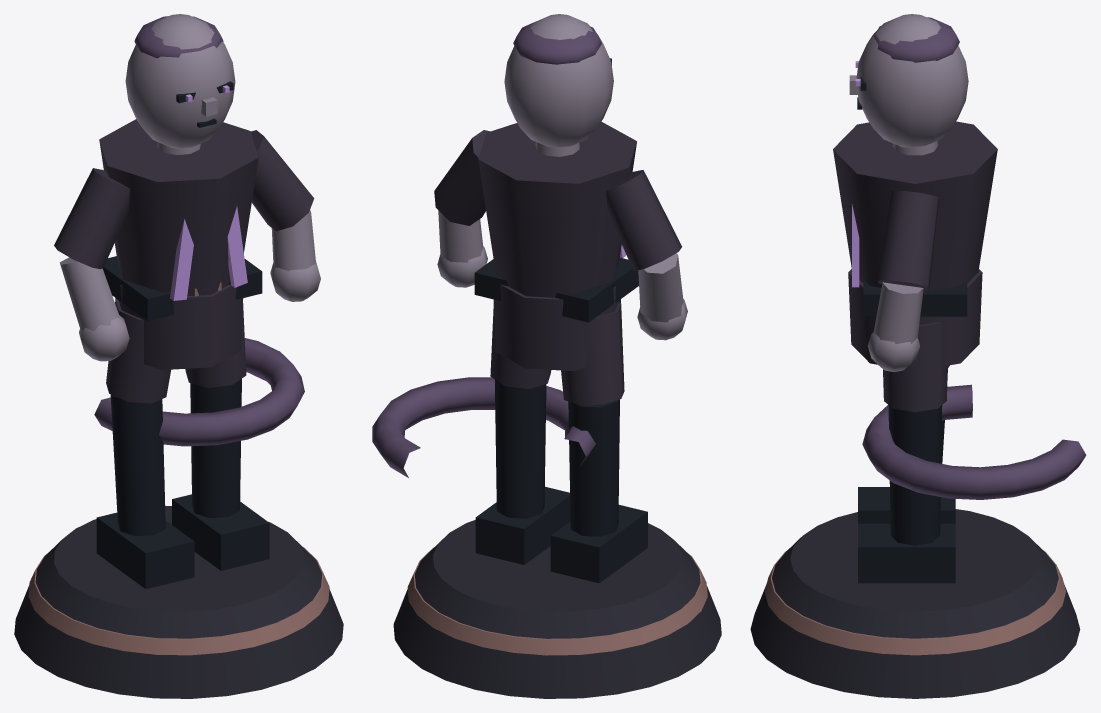
File: frieza.glb
3 renders of one model, left to right at view 1: azimuth 30°, elevation 25°; view 2: azimuth 150°, elevation 25°; view 3: azimuth 270°, elevation 25°, orthographic.
Parts seen in each view (by area): view 1: Placeholder Frieza (Black Form); view 2: Placeholder Frieza (Black Form); view 3: Placeholder Frieza (Black Form).
Boxes of the visible parts, left/top/right/bottom form: Placeholder Frieza (Black Form): left=14, top=14, right=343, bottom=698; Placeholder Frieza (Black Form): left=372, top=14, right=721, bottom=698; Placeholder Frieza (Black Form): left=750, top=14, right=1086, bottom=698.
Size of the model in its own units: 0.54 by 1.1 by 0.5502.
